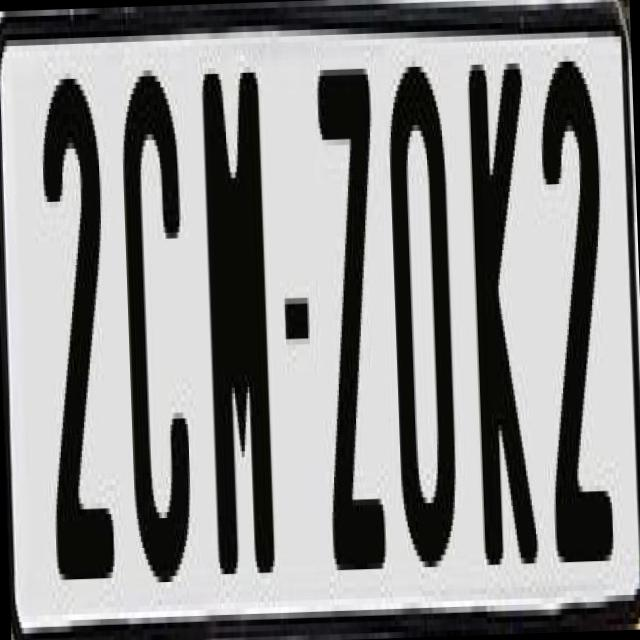0: (386, 48, 462, 574)
2: (536, 59, 612, 592), (38, 77, 116, 580)
C: (117, 62, 198, 594)
K: (468, 56, 544, 588)
M: (196, 60, 274, 592)
Z: (310, 68, 392, 606)
